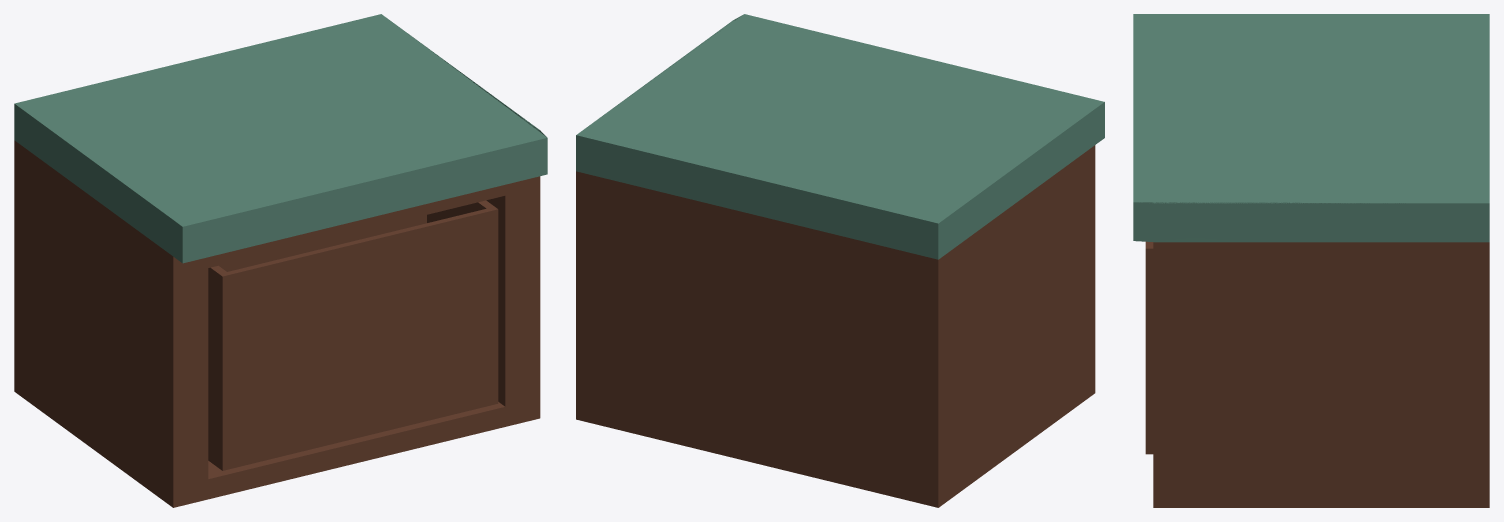
File: Counter_1_Drawer.fbx
3 views of the same model, side by side, from view 1: azimuth 30°, elevation 25°; view 2: azimuth 150°, elevation 25°; view 3: azimuth 270°, elevation 25° (orthographic). The views are drawn at different scales.
Parts seen in each view (by area): view 1: COUNTER 1 DRAWER; view 2: COUNTER 1 DRAWER; view 3: COUNTER 1 DRAWER.
Boxes of the visible parts, left/top/right/bottom form: COUNTER 1 DRAWER: left=14, top=14, right=547, bottom=507; COUNTER 1 DRAWER: left=576, top=14, right=1104, bottom=507; COUNTER 1 DRAWER: left=1133, top=14, right=1489, bottom=507.
Bounding box in the file's own units: 100 × 75 × 79.47.
